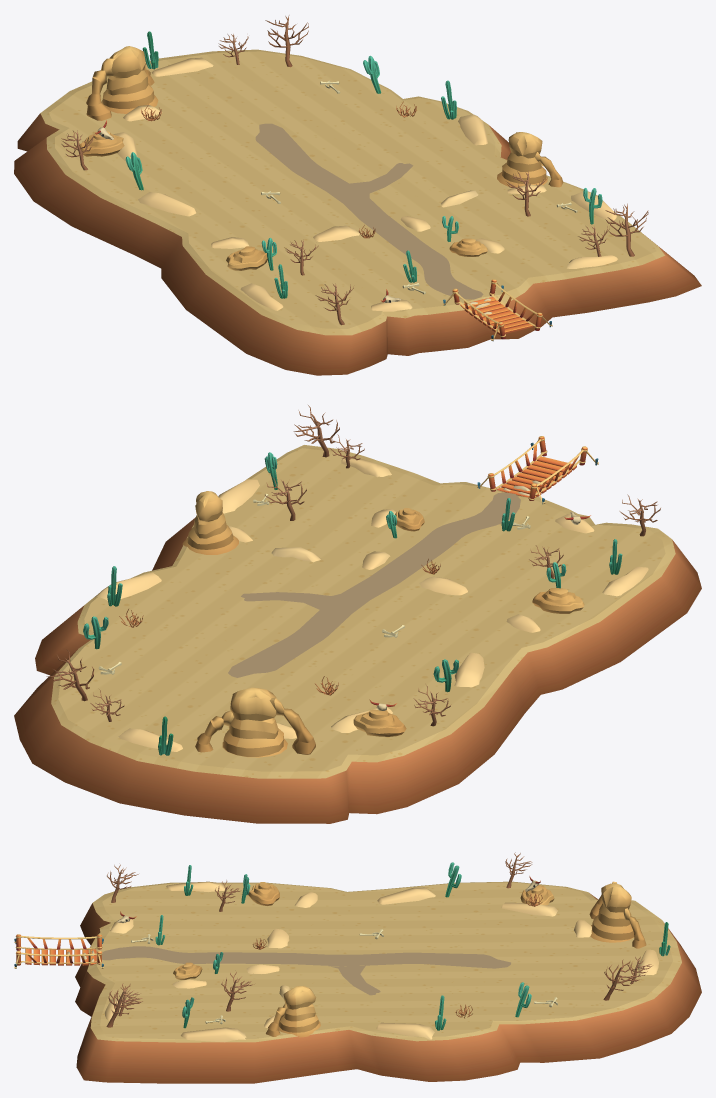
Rendered from env_Enemy_Island_3_new_Desrt_v01.fbx.
The picture shows the model from 3 angles, top to bottom: view 1: azimuth 30°, elevation 25°; view 2: azimuth 150°, elevation 25°; view 3: azimuth 270°, elevation 25°; orthographic projection. The views are drawn at different scales.
Visible parts, largest first — view 1: Island_Desert_1, Road_1, Desert_rock_big_01.001, Bridge, Desert_rock_big_01.002, Desert_rock_part_01.001, Desert_stone_03.005, Desert_stone_03.004, Sand_05.017, Road_2, Sand_05.013, Sand_05.014 (+2 smaller); view 2: Island_Desert_1, Road_1, Desert_rock_big_01.001, Bridge, Desert_rock_big_01.002, Desert_stone_03.005, Desert_stone_03.004, Desert_rock_part_01.001, Road_2, Sand_05.012, Sand_05.017, Sand_05.013 (+3 smaller); view 3: Island_Desert_1, Road_1, Bridge, Desert_rock_big_01.001, Desert_rock_big_01.002, Sand_05.012, Sand_05.013, Sand_05.017, Road_2, Desert_stone_03.004, Sand_05.016, Desert_stone_03.005 (+6 smaller).
Boxes of the visible parts, x1,y1,x2,y2 form: Island_Desert_1: (14,49,701,375); Road_1: (255,123,483,299); Desert_rock_big_01.001: (101,46,158,113); Bridge: (442,279,552,341); Desert_rock_big_01.002: (497,132,547,187); Desert_rock_part_01.001: (86,58,114,120); Desert_stone_03.005: (79,131,124,156); Desert_stone_03.004: (226,246,267,270); Sand_05.017: (138,192,196,216); Road_2: (350,163,413,197); Sand_05.013: (458,114,487,145); Sand_05.014: (151,57,213,76); Island_Desert_1: (14,445,701,823); Road_1: (228,492,520,677); Desert_rock_big_01.001: (222,687,287,757); Bridge: (477,436,598,504); Desert_rock_big_01.002: (182,491,238,554); Desert_stone_03.005: (353,709,406,736); Desert_stone_03.004: (532,588,584,613); Desert_rock_part_01.001: (269,697,315,754); Road_2: (241,592,339,609); Sand_05.012: (218,479,259,513); Sand_05.017: (454,652,484,687); Sand_05.013: (95,573,161,600); Island_Desert_1: (75,881,701,1083); Road_1: (102,946,510,968); Bridge: (14,934,103,968); Desert_rock_big_01.001: (590,883,634,942); Desert_rock_big_01.002: (278,986,320,1037); Sand_05.012: (181,1027,246,1042); Sand_05.013: (376,1022,434,1039); Sand_05.017: (377,887,435,904); Road_2: (328,965,380,995); Desert_stone_03.004: (248,882,279,905); Sand_05.016: (501,902,557,916); Desert_stone_03.005: (520,884,554,905).
Bounding box in the file's own units: 7491 × 1498 × 11899.
